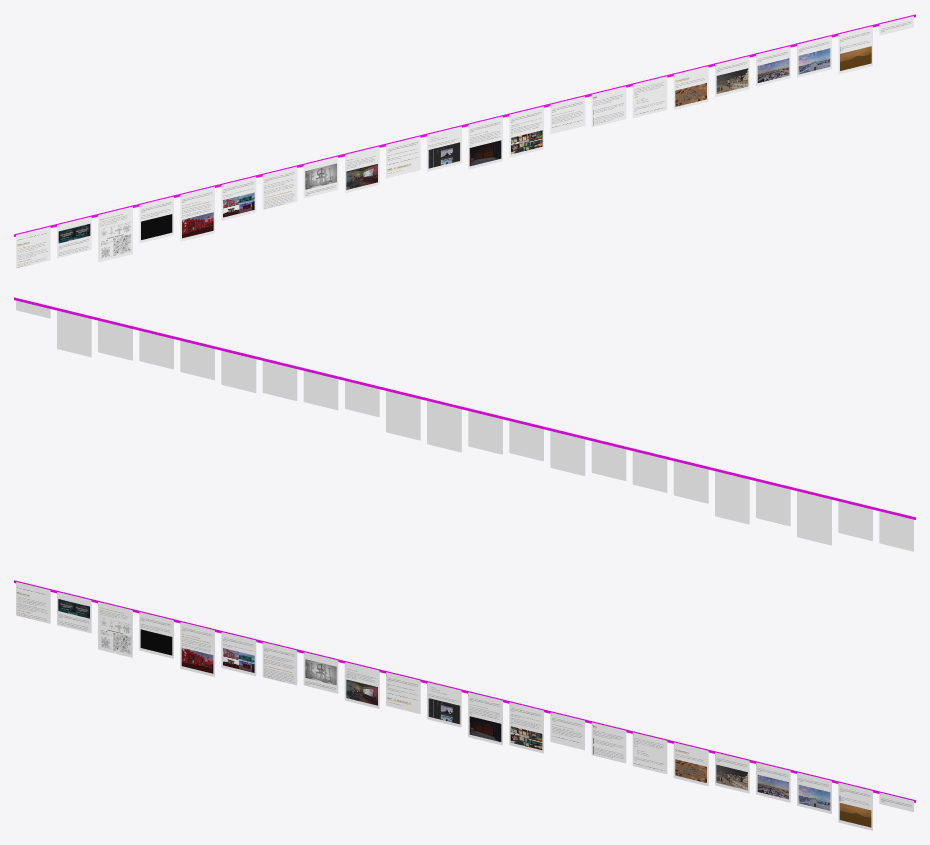
File: content.glb
3 views of the same model, one above another, from view 1: azimuth 30°, elevation 25°; view 2: azimuth 150°, elevation 25°; view 3: azimuth 330°, elevation 25° (orthographic).
Parts seen in each view (by area): view 1: ruler_merged, plane (×14); view 2: ruler_merged; view 3: ruler_merged, plane (×14).
Part boxes in pixels (<box>): ruler_merged: <box>14,14,915,268</box>; plane (×14): <box>99,46,871,259</box>; ruler_merged: <box>14,297,915,551</box>; ruler_merged: <box>14,580,915,830</box>; plane (×14): <box>99,617,871,827</box>.
Bounding box in the file's own units: 1.92 × 0.0996 × 0.000281.
2 materials, 2 textured.
